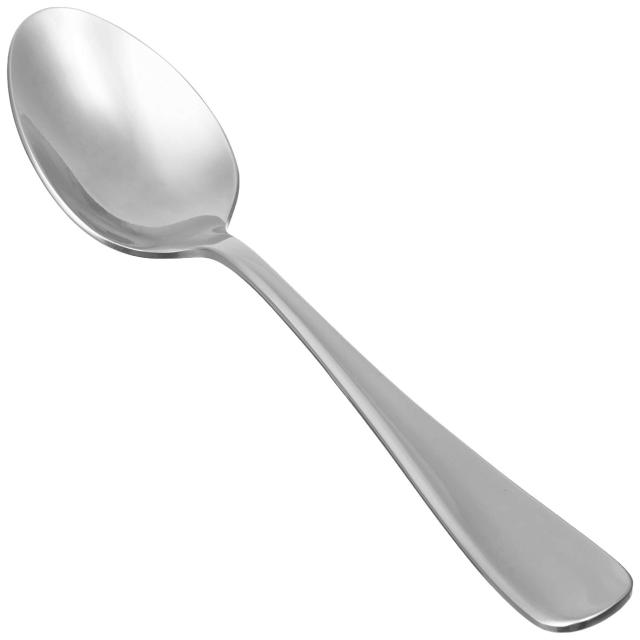spoon: (8, 0, 639, 636)
